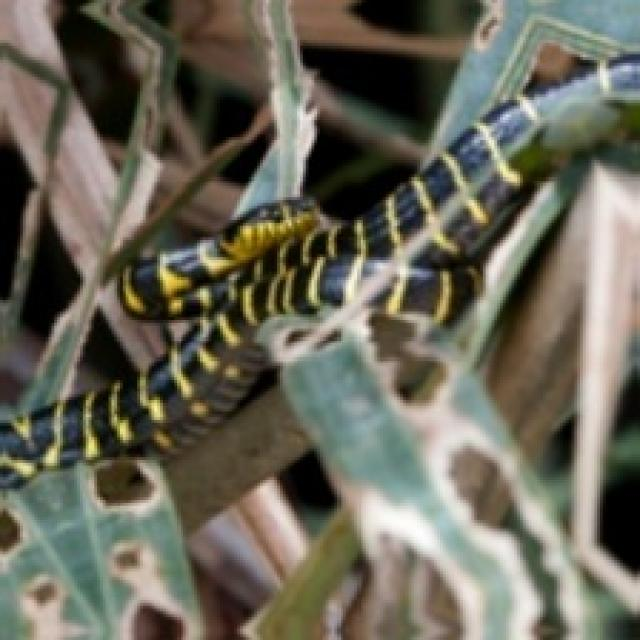mangrove cat snake: (0, 40, 637, 486)
